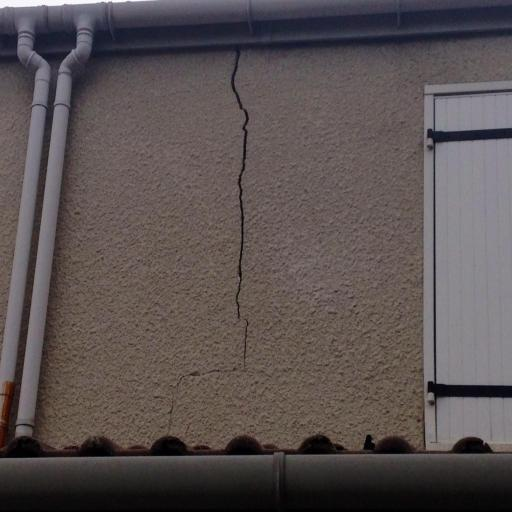spalling: (225, 53, 257, 364)
